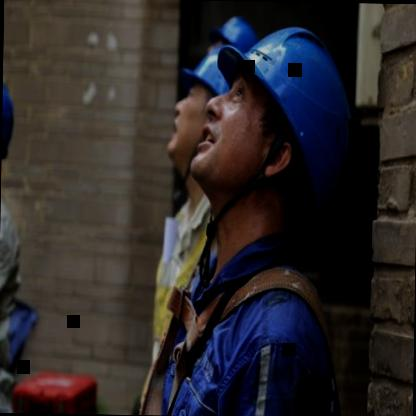helmet: (170, 7, 362, 264), (205, 2, 262, 86)
